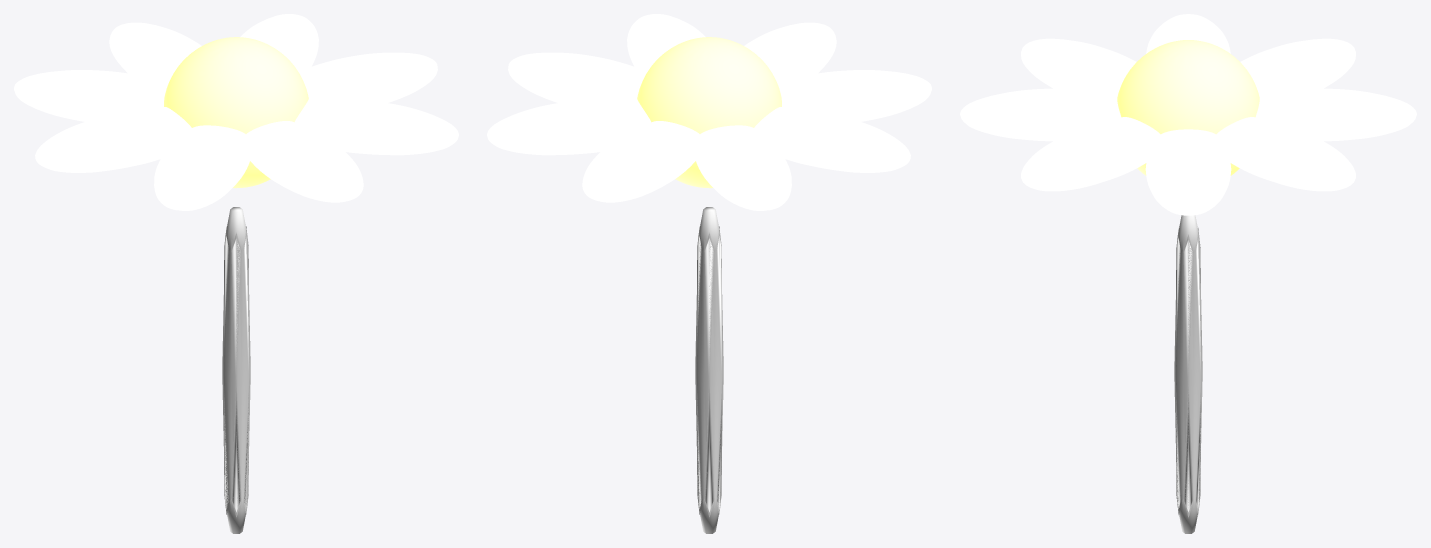
Rendered from plant_flower_daisy_v3.glb.
3 renders of one model, left to right at view 1: azimuth 30°, elevation 25°; view 2: azimuth 150°, elevation 25°; view 3: azimuth 270°, elevation 25°, orthographic.
Visible parts, largest first — view 1: center, st, pt_4, pt_7, pt_6, pt_5, pt_3, pt_0, pt_2, pt_1; view 2: center, st, pt_4, pt_1, pt_2, pt_3, pt_5, pt_0, pt_6, pt_7; view 3: center, st, pt_1, pt_7, pt_2, pt_6, pt_0, pt_3, pt_5, pt_4.
Part boxes in pixels (x1,y1,x2,y2): center: [164, 37, 308, 188]; st: [222, 207, 250, 533]; pt_4: [35, 107, 191, 172]; pt_7: [295, 98, 458, 155]; pt_6: [246, 121, 363, 202]; pt_5: [154, 125, 250, 210]; pt_3: [14, 70, 168, 121]; pt_0: [298, 52, 437, 102]; pt_2: [109, 22, 201, 81]; pt_1: [240, 14, 318, 71]; center: [637, 37, 781, 188]; st: [695, 207, 723, 533]; pt_4: [754, 107, 910, 172]; pt_1: [487, 98, 650, 155]; pt_2: [582, 121, 699, 202]; pt_3: [695, 125, 791, 210]; pt_5: [777, 70, 931, 121]; pt_0: [508, 52, 647, 102]; pt_6: [744, 22, 836, 81]; pt_7: [627, 14, 705, 71]; center: [1117, 40, 1259, 175]; st: [1174, 215, 1202, 533]; pt_1: [1216, 117, 1355, 191]; pt_7: [1021, 117, 1160, 191]; pt_2: [1256, 88, 1416, 141]; pt_6: [960, 88, 1120, 141]; pt_0: [1145, 129, 1231, 215]; pt_3: [1240, 38, 1355, 93]; pt_5: [1021, 38, 1136, 93]; pt_4: [1146, 14, 1230, 53].
Size of the model in its own units: 0.3552 by 0.4165 by 0.3552.
